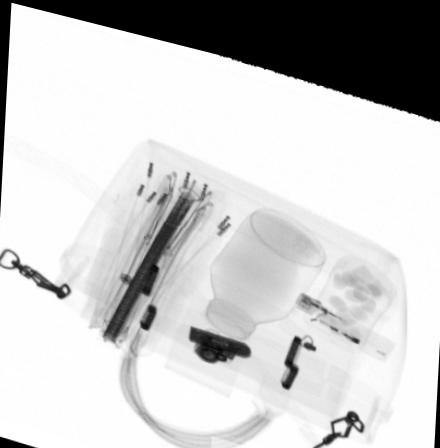Lighter: (291, 276, 396, 344)
